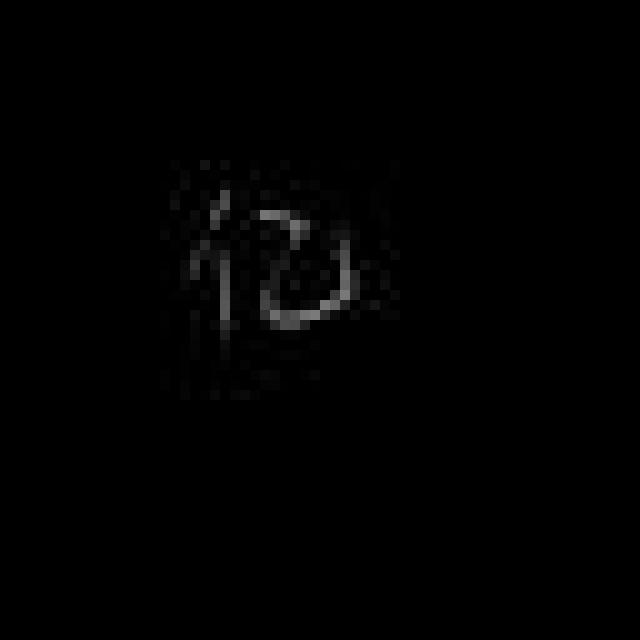100000 -a hundred thousand-: (180, 178, 368, 346)
